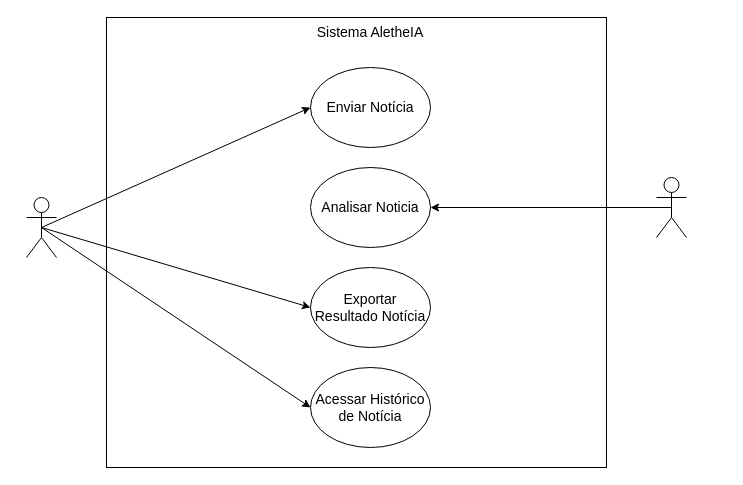
Image size: 743x485. Some labels were removed from this diagram. The centre of each missing label's shape, as x and y in pixels:
<<Modelo LLM>>: [671,207]
Usuário: [41,227]
